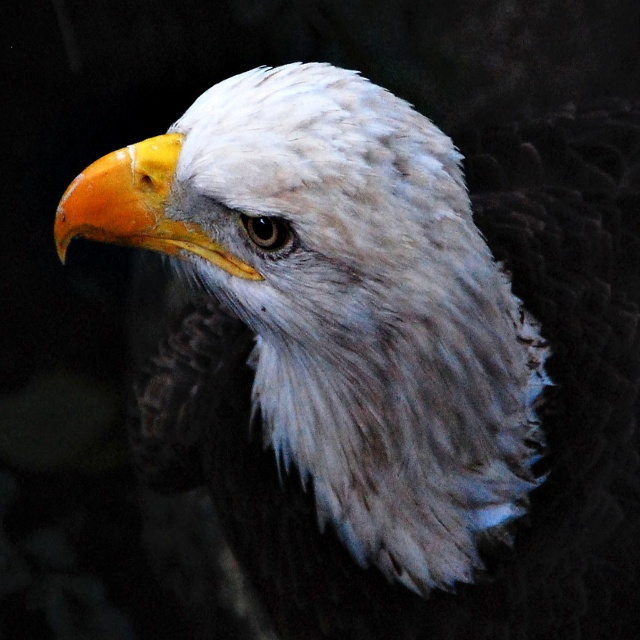Eagle: (55, 62, 640, 639)
